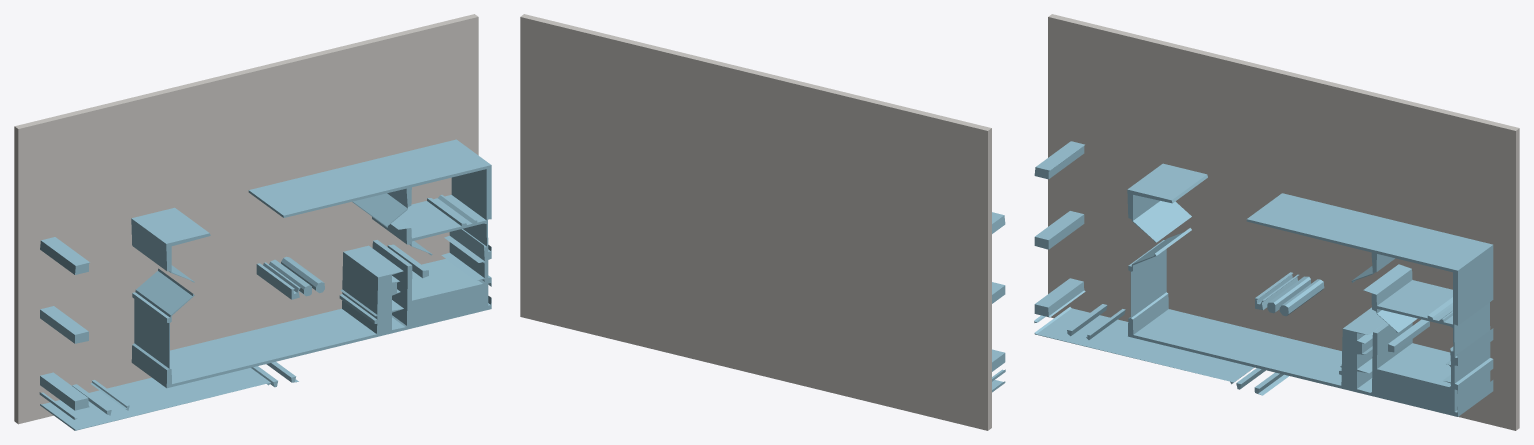
3 views of the same model, side by side, from view 1: azimuth 30°, elevation 25°; view 2: azimuth 150°, elevation 25°; view 3: azimuth 330°, elevation 25° (orthographic).
Parts seen in each view (by area): view 1: world; view 2: world; view 3: world.
Part boxes in pixels (bbox=[...]): world: bbox=[14, 14, 491, 430]; world: bbox=[520, 14, 1005, 430]; world: bbox=[1034, 14, 1519, 430].
Size of the model in its own units: 10.23 by 6.27 by 1.5.
